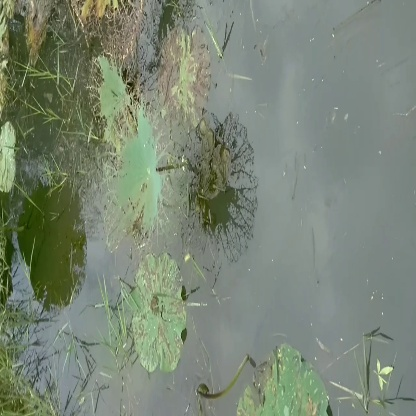leaf: (129, 247, 188, 375)
